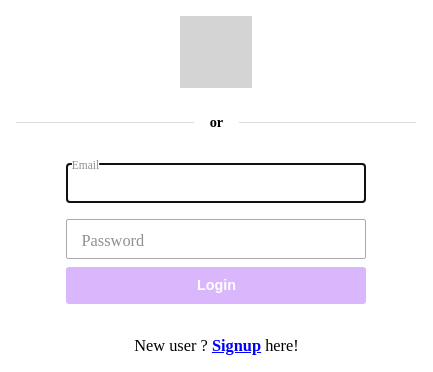
LoginForm Tests › Login button should be disabled if input is not validated, and vice versa
Expected: the button "Login" is disabled, [66,267,366,304]
Type "testing@gmail.com" into the field named "username".
click(216, 183); type("testing@gmail.com")  # box [66,163,366,203]
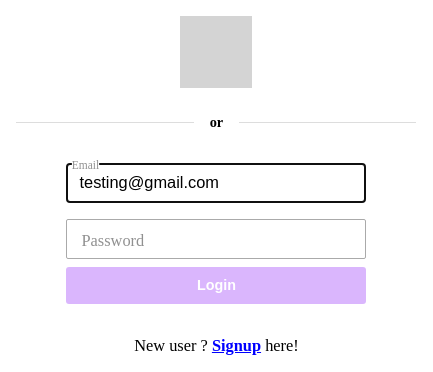
Type "testingpassword" into the password field named "password".
click(216, 239); type("testingpassword")  # box [66,219,366,259]
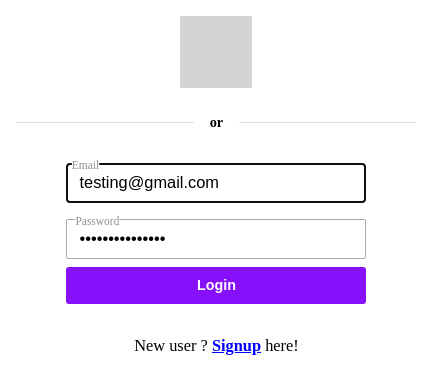
Expected: the button "Login" is enabled, [66,267,366,304]
